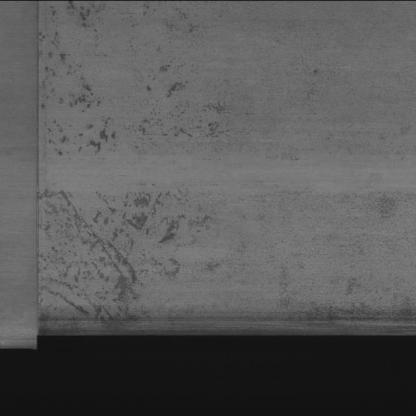welding_line: (20, 0, 54, 352)
